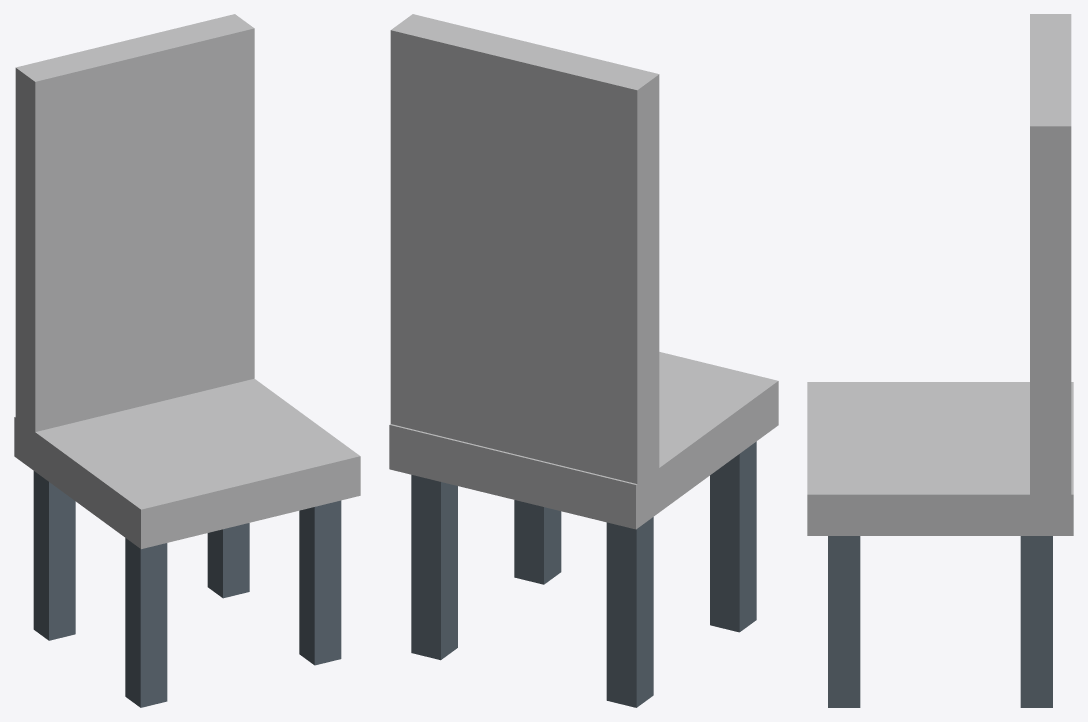
File: silla_simple.glb
3 renders of one model, left to right at view 1: azimuth 30°, elevation 25°; view 2: azimuth 150°, elevation 25°; view 3: azimuth 270°, elevation 25°, orthographic. The views are drawn at different scales.
Visible parts, largest first — view 1: silla_simple_01, silla_simple_00, silla_simple_03, silla_simple_05, silla_simple_02, silla_simple_04; view 2: silla_simple_01, silla_simple_00, silla_simple_02, silla_simple_04, silla_simple_03, silla_simple_05; view 3: silla_simple_00, silla_simple_01, silla_simple_04, silla_simple_05.
Part boxes in pixels (left/top/right/bottom): silla_simple_01: left=15, top=14, right=254, bottom=449; silla_simple_00: left=14, top=378, right=360, bottom=549; silla_simple_03: left=125, top=538, right=167, bottom=707; silla_simple_05: left=299, top=500, right=341, bottom=665; silla_simple_02: left=33, top=471, right=75, bottom=640; silla_simple_04: left=207, top=523, right=249, bottom=598; silla_simple_01: left=390, top=14, right=659, bottom=501; silla_simple_00: left=389, top=352, right=778, bottom=529; silla_simple_02: left=606, top=517, right=653, bottom=707; silla_simple_04: left=411, top=475, right=457, bottom=660; silla_simple_03: left=710, top=441, right=756, bottom=632; silla_simple_05: left=514, top=500, right=561, bottom=584; silla_simple_00: left=807, top=382, right=1073, bottom=535; silla_simple_01: left=1030, top=14, right=1071, bottom=494; silla_simple_04: left=1020, top=536, right=1052, bottom=707; silla_simple_05: left=828, top=536, right=860, bottom=707.
Size of the model in its own units: 0.58 by 1.41 by 0.58.
